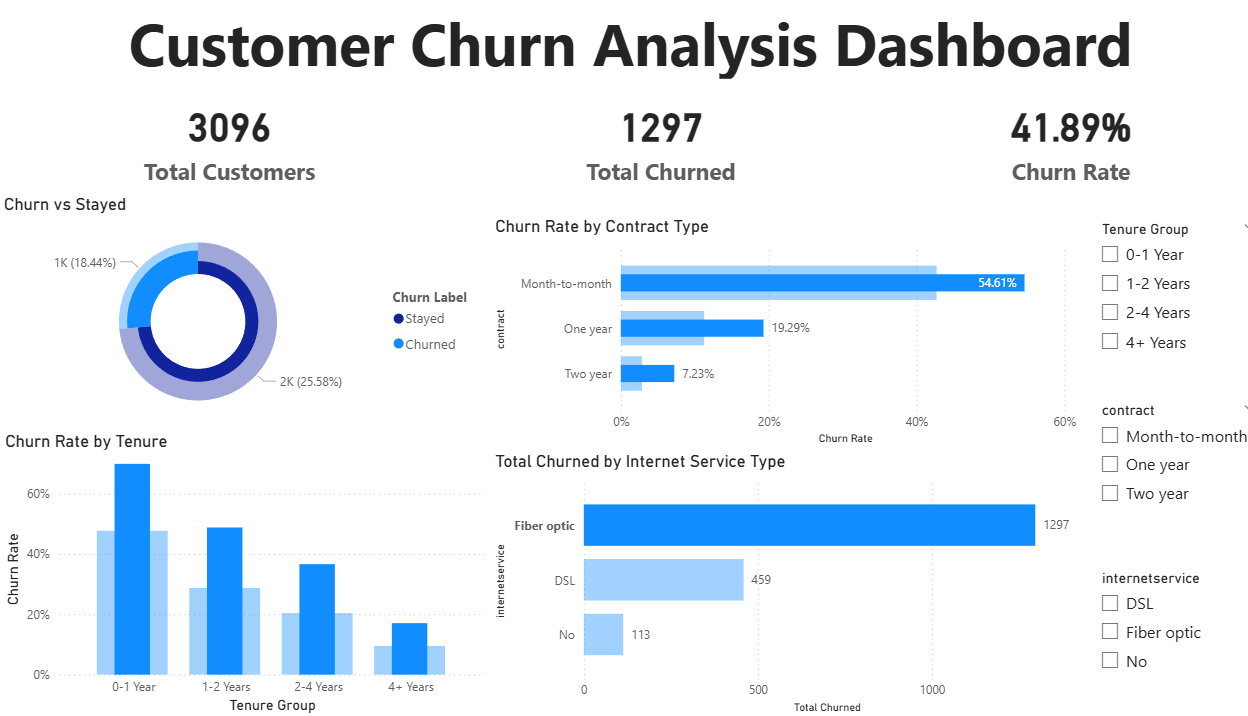

Layout of this report page (visuals, bound fields, positions):
{"tool":"powerbi","page":{"name":"Page 1","canvas":[1280,720],"ordinal":0},"visuals":[{"type":"card","fields":{"Values":["customers_cleaned.Total Customers"]},"box":[10.8,86.2,438.9,110.4],"z":0},{"type":"card","fields":{"Values":["customers_cleaned.Total Churned"]},"box":[449.6,86.2,424.1,110.4],"z":1000},{"type":"card","fields":{"Values":["customers_cleaned.Churn Rate"]},"box":[873.7,86.2,397.1,110.4],"z":2000},{"type":"donutChart","title":"Churn vs Stayed","fields":{"Category":["customers_cleaned.Churn Label"],"Y":["customers_cleaned.Total Customers"]},"box":[0,196.6,491.4,235.6],"z":3000},{"type":"clusteredBarChart","title":"Churn Rate by Contract Type","fields":{"Category":["customers_cleaned.contract"],"Y":["customers_cleaned.Churn Rate"]},"box":[491.4,218.1,597.7,234.2],"z":4000},{"type":"slicer","fields":{"Values":["customers_cleaned.contract"]},"box":[1090.5,398.5,180.4,168.3],"z":5000},{"type":"slicer","fields":{"Values":["customers_cleaned.internetservice"]},"box":[1090.5,566.8,189.8,153.5],"z":6000},{"type":"textbox","box":[0,0,1270.8,86.2],"z":7000},{"type":"clusteredBarChart","title":"Total Churned by Internet Service Type","fields":{"Category":["customers_cleaned.internetservice"],"Y":["customers_cleaned.Total Churned"]},"box":[491.4,452.3,599.1,267.9],"z":8000},{"type":"clusteredColumnChart","title":"Churn Rate by Tenure","fields":{"Category":["customers_cleaned.Tenure Group"],"Y":["customers_cleaned.Churn Rate"]},"box":[1.3,432.1,490,288.1],"z":9000},{"type":"slicer","fields":{"Values":["customers_cleaned.Tenure Group"]},"box":[1090.5,218.1,180.4,180.4],"z":10000}]}

Visuals, with their boxes in screenshot pixels (x1, y1, x2, y2), scaled from the page's 1280x720 canvas onto the 1248x716 screenshot:
card - customers_cleaned.Total Customers: {"left": 11, "top": 86, "right": 438, "bottom": 196}
card - customers_cleaned.Total Churned: {"left": 438, "top": 86, "right": 852, "bottom": 196}
card - customers_cleaned.Churn Rate: {"left": 852, "top": 86, "right": 1239, "bottom": 196}
"Churn vs Stayed" donutChart: {"left": 0, "top": 196, "right": 479, "bottom": 430}
"Churn Rate by Contract Type" clusteredBarChart: {"left": 479, "top": 217, "right": 1062, "bottom": 450}
slicer - customers_cleaned.contract: {"left": 1063, "top": 396, "right": 1239, "bottom": 564}
slicer - customers_cleaned.internetservice: {"left": 1063, "top": 564, "right": 1247, "bottom": 715}
textbox: {"left": 0, "top": 0, "right": 1239, "bottom": 86}
"Total Churned by Internet Service Type" clusteredBarChart: {"left": 479, "top": 450, "right": 1063, "bottom": 715}
"Churn Rate by Tenure" clusteredColumnChart: {"left": 1, "top": 430, "right": 479, "bottom": 715}
slicer - customers_cleaned.Tenure Group: {"left": 1063, "top": 217, "right": 1239, "bottom": 396}
